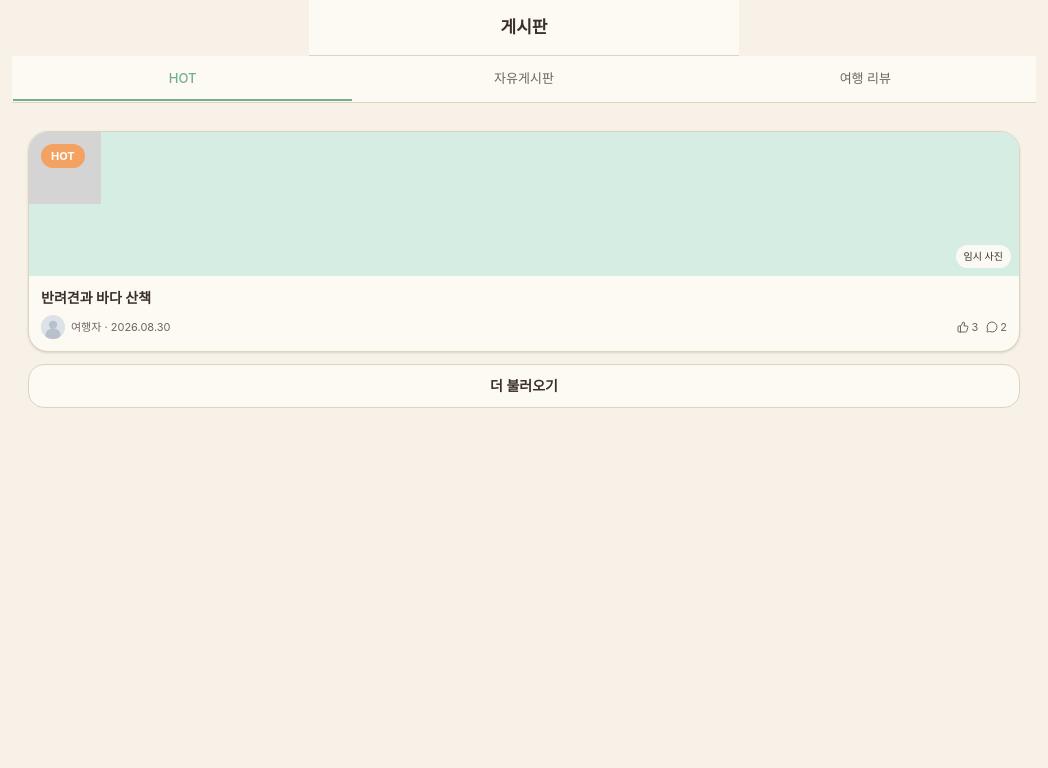
it: live community board › keeps loaded posts after a page failure and retries the same cursor without duplicates
The image size is (1048, 768).
Step 1. Click the button "더 불러오기" → (524, 386), box [28,364,1020,408]
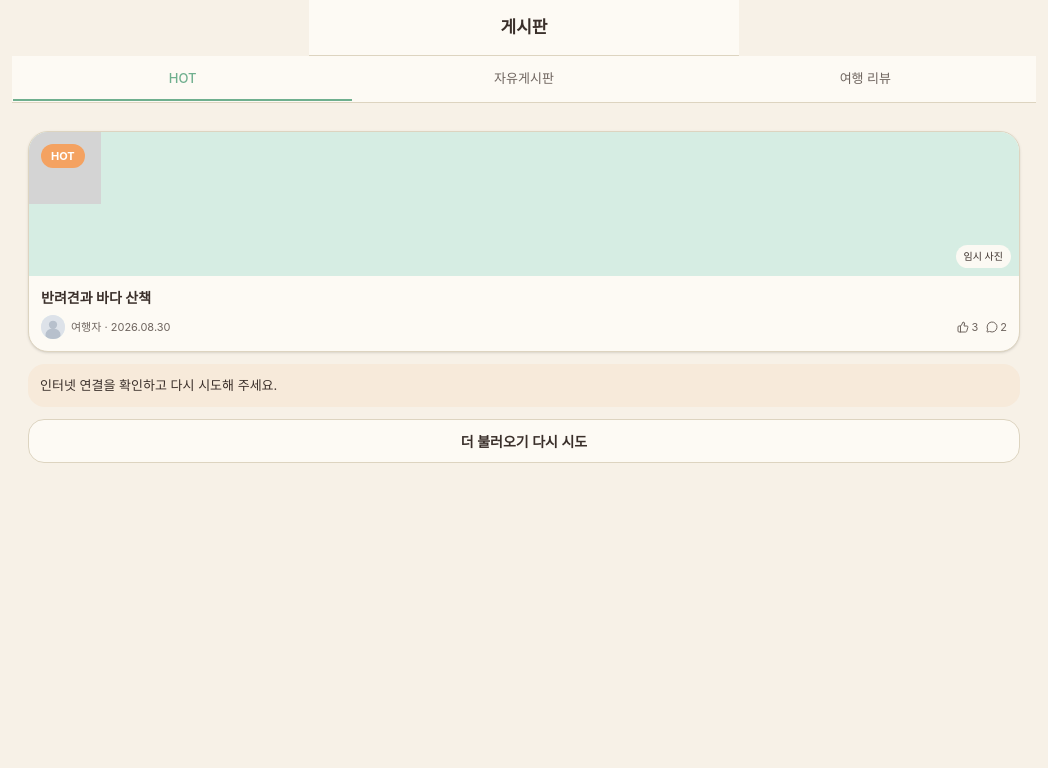
Expected: the heading "반려견과 바다 산책" is shown, [41,288,151,306]
Now the message shows "인터넷 연결", box [40,377,277,393]
Step 2. Click the button "더 불러오기 다시 시도" → (524, 441), box [28,419,1020,463]
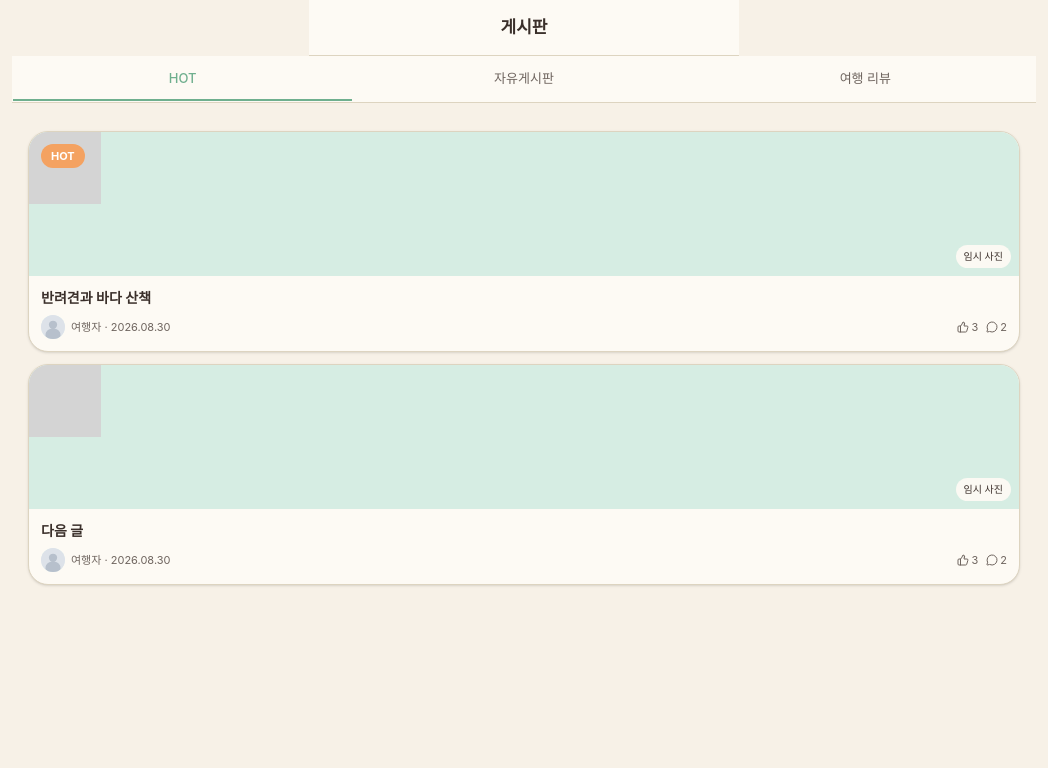
Now the heading "다음 글" is shown, box [41,522,83,539]
Now the number of headings "반려견과 바다 산책" is 1, box [41,288,151,306]
Now the button "더 불러오기" is gone
